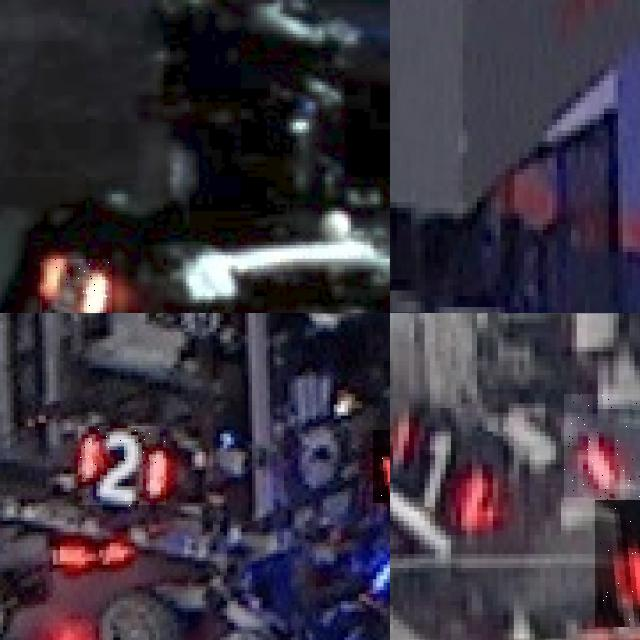R1: (390, 401, 506, 561), (563, 394, 640, 502)
R2: (78, 426, 166, 506), (373, 430, 390, 502)
Rs: (40, 258, 111, 313)
